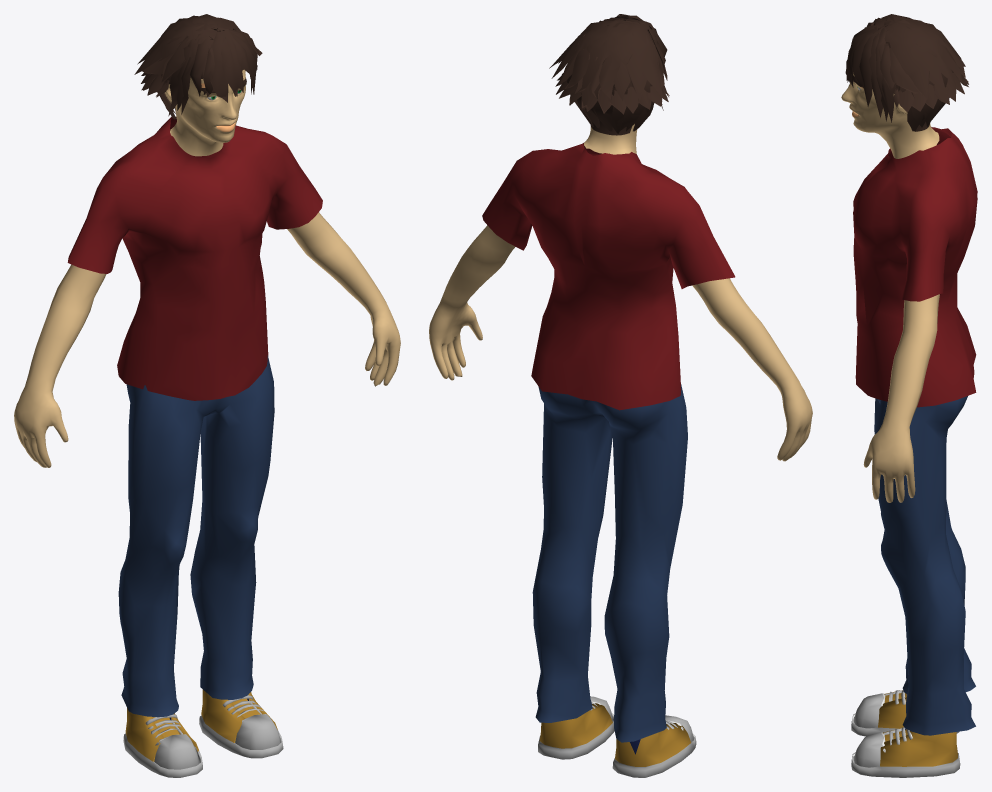
File: nuevo_lowpoly_hombre.fbx
3 views of the same model, side by side, from view 1: azimuth 30°, elevation 25°; view 2: azimuth 150°, elevation 25°; view 3: azimuth 270°, elevation 25° (orthographic).
Visible parts, largest first — view 1: camiseta, OANTALON, male_base.001, Hair tuoma.002, shoes.001; view 2: camiseta, OANTALON, male_base.001, Hair tuoma.002, shoes.001; view 3: camiseta, OANTALON, male_base.001, Hair tuoma.002, shoes.001.
Boxes of the visible parts, x1=… form: camiseta: x1=67, y1=116, x2=322, y2=400; OANTALON: x1=118, y1=355, x2=274, y2=717; male_base.001: x1=14, y1=58, x2=400, y2=467; Hair tuoma.002: x1=134, y1=14, x2=262, y2=119; shoes.001: x1=123, y1=689, x2=283, y2=777; camiseta: x1=482, y1=142, x2=735, y2=410; OANTALON: x1=532, y1=384, x2=687, y2=742; male_base.001: x1=429, y1=120, x2=812, y2=461; Hair tuoma.002: x1=549, y1=14, x2=669, y2=133; shoes.001: x1=538, y1=696, x2=696, y2=777; camiseta: x1=853, y1=127, x2=977, y2=407; OANTALON: x1=874, y1=396, x2=975, y2=735; male_base.001: x1=841, y1=40, x2=939, y2=502; Hair tuoma.002: x1=845, y1=14, x2=968, y2=131; shoes.001: x1=851, y1=690, x2=960, y2=777.
Bounding box in the file's own units: 2031 × 3752 × 638.
